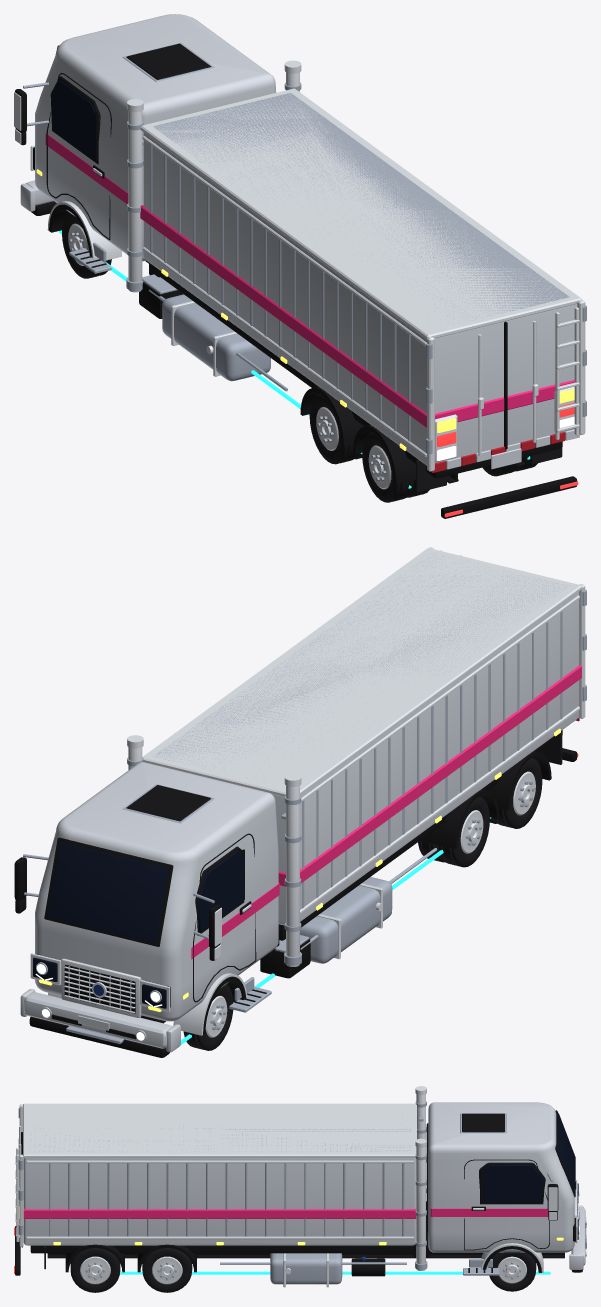
File: dekotora_truck_base.glb
3 renders of one model, top to bottom at view 1: azimuth 30°, elevation 25°; view 2: azimuth 150°, elevation 25°; view 3: azimuth 270°, elevation 25°, orthographic. The views are drawn at different scales.
Visible parts, largest first — view 1: truck_paint_white, truck_chrome, truck_steel, truck_plastic_black, truck_paint_pink, truck_glass, wheel_r_L_1.5_1.06, wheel_r_L_3.0_1.06, wheel_f_L, truck_rubber, truck_paint_red, truck_lamp_amber; view 2: truck_paint_white, truck_chrome, truck_steel, truck_plastic_black, truck_glass, truck_paint_pink, wheel_r_L_3.0_1.06, wheel_r_L_1.5_1.06, wheel_f_L; view 3: truck_paint_white, truck_chrome, truck_plastic_black, truck_steel, truck_paint_pink, truck_glass, wheel_r_R_1.5_1.06, wheel_r_R_3.0_1.06, wheel_f_R, truck_lamp_cyan.
Part boxes in pixels (x1,y1,x2,y2): truck_paint_white: (20, 14, 579, 469); truck_chrome: (14, 60, 585, 471); truck_steel: (23, 42, 586, 454); truck_plastic_black: (15, 43, 577, 518); truck_paint_pink: (45, 133, 574, 427); truck_glass: (51, 80, 95, 160); wheel_r_L_1.5_1.06: (362, 432, 413, 502); wheel_r_L_3.0_1.06: (309, 393, 357, 464); wheel_f_L: (62, 212, 111, 278); truck_rubber: (416, 448, 562, 492); truck_paint_red: (431, 432, 565, 473); truck_lamp_amber: (36, 169, 574, 450); truck_paint_white: (20, 592, 578, 1052); truck_chrome: (14, 547, 585, 1041); truck_steel: (23, 553, 586, 1043); truck_plastic_black: (15, 730, 577, 1057); truck_glass: (33, 842, 243, 1008); truck_paint_pink: (191, 664, 581, 959); wheel_r_L_3.0_1.06: (438, 796, 489, 867); wheel_r_L_1.5_1.06: (494, 758, 542, 828); wheel_f_L: (183, 984, 233, 1050); truck_paint_white: (21, 1102, 586, 1269); truck_chrome: (15, 1086, 586, 1287); truck_plastic_black: (15, 1110, 586, 1276); truck_steel: (18, 1101, 586, 1284); truck_paint_pink: (23, 1208, 548, 1218); truck_glass: (482, 1113, 578, 1239); wheel_r_R_1.5_1.06: (70, 1248, 120, 1292); wheel_r_R_3.0_1.06: (142, 1248, 192, 1292); wheel_f_R: (488, 1252, 536, 1291); truck_lamp_cyan: (120, 1271, 550, 1274).
Size of the model in its own units: 3.33 by 3.55 by 11.96.
